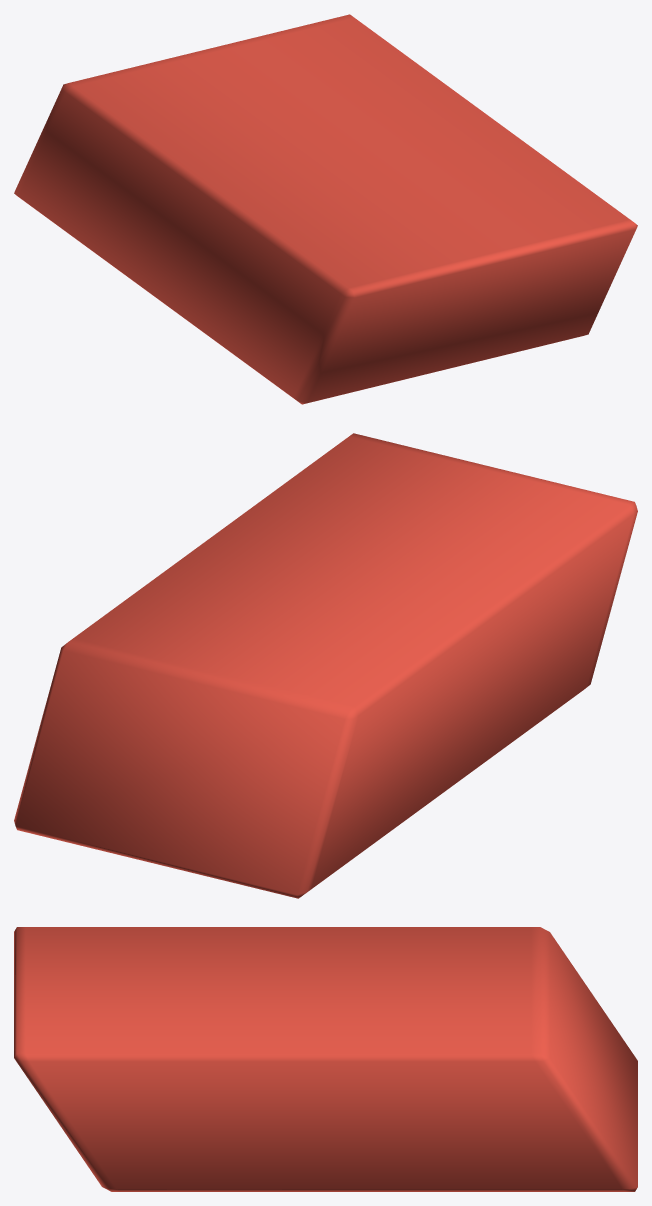
File: eraser.fbx
3 views of the same model, one above another, from view 1: azimuth 30°, elevation 25°; view 2: azimuth 150°, elevation 25°; view 3: azimuth 270°, elevation 25° (orthographic). The views are drawn at different scales.
Parts seen in each view (by area): view 1: Cube; view 2: Cube; view 3: Cube.
Part boxes in pixels (x1,y1,x2,y2): Cube: [14, 14, 637, 404]; Cube: [14, 433, 637, 898]; Cube: [14, 927, 637, 1191].
Bounding box in the file's own units: 303 × 149 × 609.
